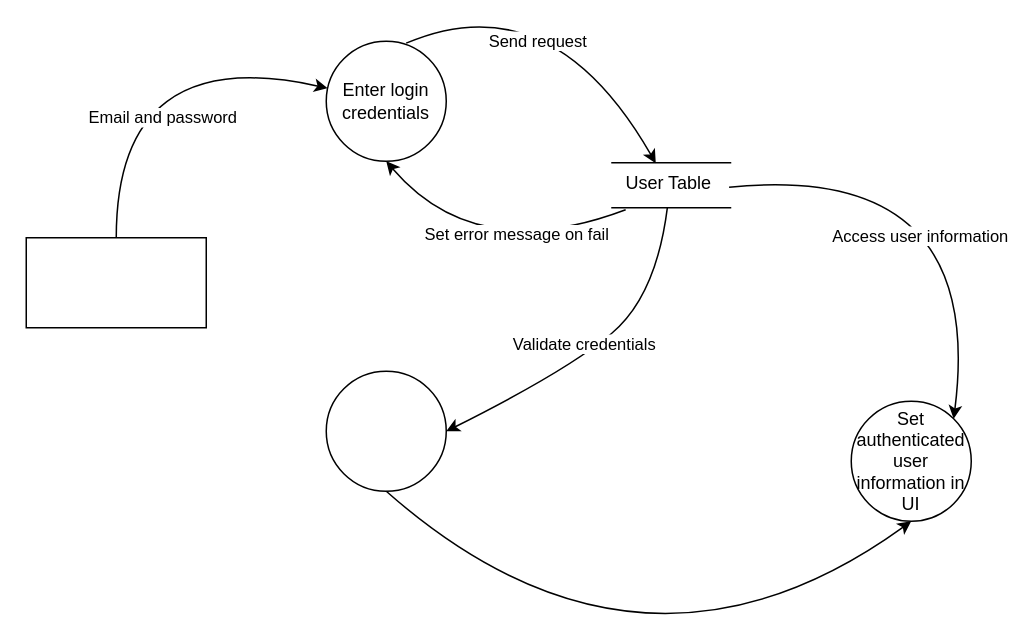
Image size: 1034x641. Some labels were removed from this diagram. The centre of each missing label's shape, as x and y in pixels:
"Redirect user to home page" goes at (x=385, y=430).
"User" goes at (x=115, y=282).
